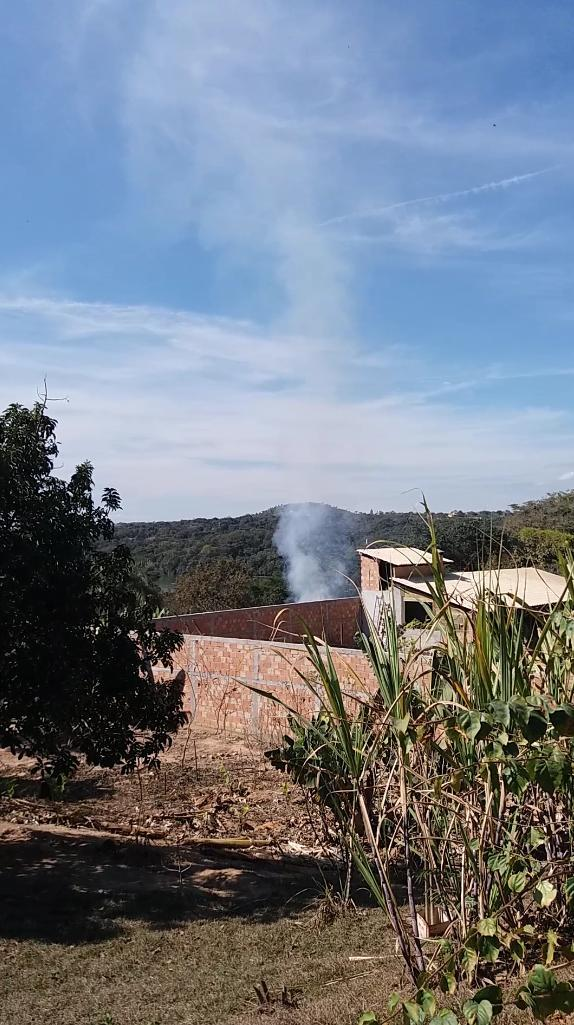smoke: (285, 505, 350, 600)
